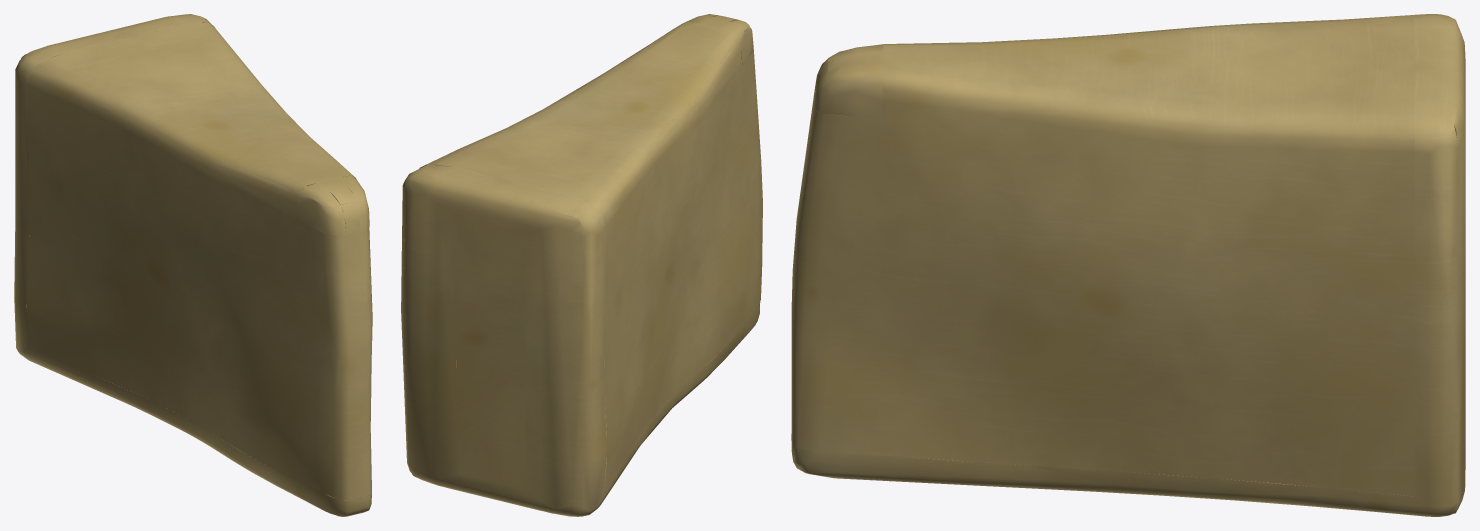
Rendered from LowpolyCheddarCheese.glb.
3 views of the same model, side by side, from view 1: azimuth 30°, elevation 25°; view 2: azimuth 150°, elevation 25°; view 3: azimuth 270°, elevation 25° (orthographic). The views are drawn at different scales.
Visible parts, largest first — view 1: Cheese_Cheese_0001_0; view 2: Cheese_Cheese_0001_0; view 3: Cheese_Cheese_0001_0.
Part boxes in pixels (x1,y1,x2,y2): Cheese_Cheese_0001_0: (14, 14, 372, 516); Cheese_Cheese_0001_0: (401, 14, 762, 516); Cheese_Cheese_0001_0: (791, 14, 1465, 516).
Size of the model in its own units: 0.0459 by 0.0706 by 0.1042.
Materials: 1 (1 with a texture image).
